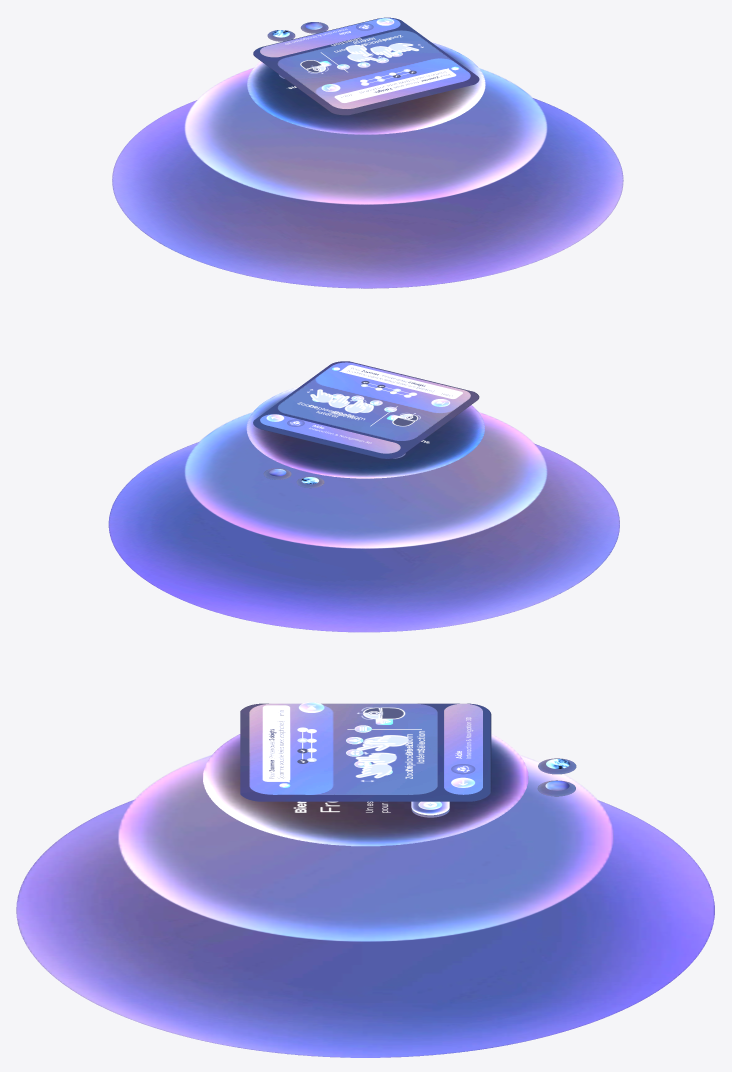
File: chunk_panel00.glb
3 views of the same model, one above another, from view 1: azimuth 30°, elevation 25°; view 2: azimuth 150°, elevation 25°; view 3: azimuth 270°, elevation 25° (orthographic). The views are drawn at different scales.
Visible parts, largest first — view 1: 00N_Disk03, 00N_Disk02, 00N_Disk01, 00A_Panel, 00A_Discover, 00A_Menu, 00A_00Pitch.001; view 2: 00N_Disk03, 00N_Disk02, 00N_Disk01, 00A_Panel, 00A_Discover, 00A_Menu, 00A_00Pitch.001; view 3: 00N_Disk03, 00N_Disk02, 00N_Disk01, 00A_Panel, 00A_Discover, 00A_Menu, 00A_00Pitch.001, 00A_00Pitch.008.
Boxes of the visible parts, bbox=[...] form: 00N_Disk03: bbox=[112, 98, 623, 288]; 00N_Disk02: bbox=[184, 68, 547, 204]; 00N_Disk01: bbox=[247, 42, 485, 134]; 00A_Panel: bbox=[277, 30, 470, 108]; 00A_Discover: bbox=[253, 17, 479, 115]; 00A_Menu: bbox=[260, 18, 400, 57]; 00A_00Pitch.001: bbox=[350, 66, 459, 99]; 00N_Disk03: bbox=[108, 442, 619, 632]; 00N_Disk02: bbox=[184, 412, 547, 548]; 00N_Disk01: bbox=[246, 386, 484, 478]; 00A_Panel: bbox=[277, 362, 470, 440]; 00A_Discover: bbox=[253, 361, 479, 458]; 00A_Menu: bbox=[260, 414, 400, 453]; 00A_00Pitch.001: bbox=[332, 365, 447, 395]; 00N_Disk03: bbox=[16, 799, 714, 1057]; 00N_Disk02: bbox=[118, 755, 613, 941]; 00N_Disk01: bbox=[203, 734, 528, 846]; 00A_Panel: bbox=[249, 703, 437, 794]; 00A_Discover: bbox=[240, 703, 491, 801]; 00A_Menu: bbox=[444, 703, 482, 794]; 00A_00Pitch.001: bbox=[263, 715, 290, 787]; 00A_00Pitch.008: bbox=[353, 741, 424, 770].
Size of what is drawn, in the model's own units: 19.42 by 5.14 by 19.42.
Materials: 6 (6 with a texture image).
